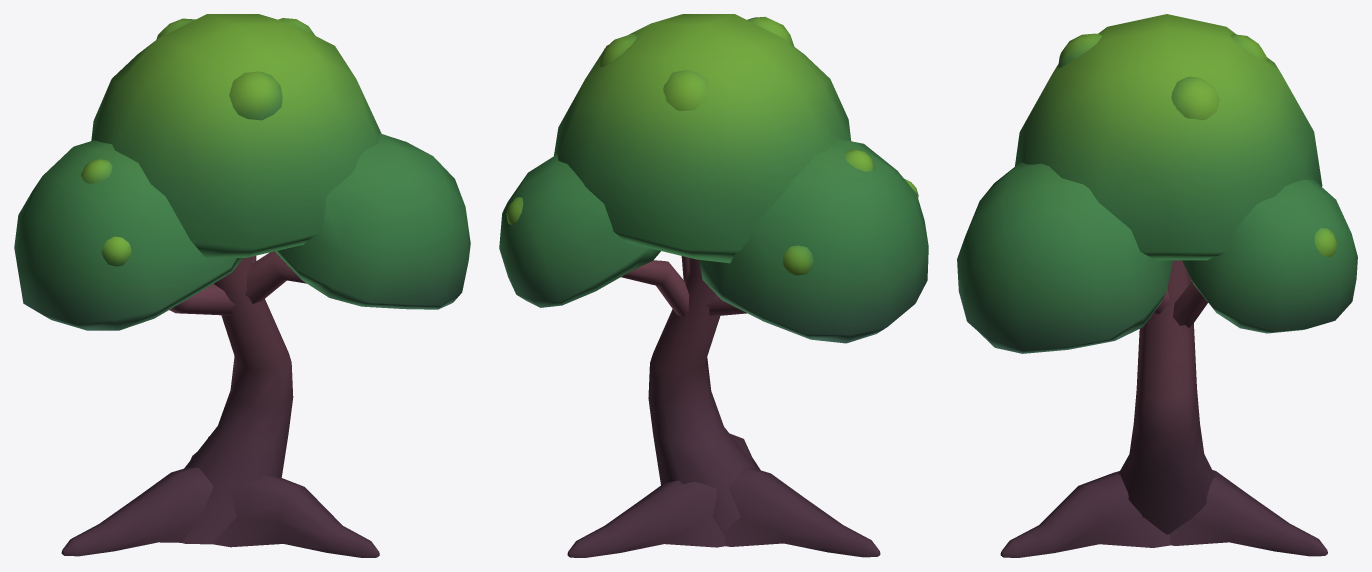
Rendered from Tree_013.fbx.
3 renders of one model, left to right at view 1: azimuth 30°, elevation 25°; view 2: azimuth 150°, elevation 25°; view 3: azimuth 270°, elevation 25°, orthographic. The views are drawn at different scales.
Parts seen in each view (by area): view 1: Tree.013; view 2: Tree.013; view 3: Tree.013.
Boxes of the visible parts, x1,y1,x2,y2 form: Tree.013: (14, 14, 470, 557); Tree.013: (499, 14, 928, 557); Tree.013: (957, 14, 1357, 557).
Bounding box in the file's own units: 4.24 × 5.22 × 3.82.
